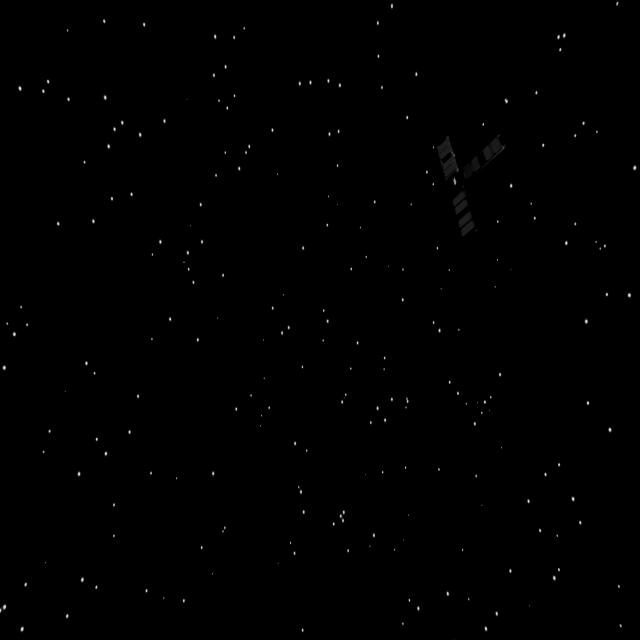satellite: (400, 109, 508, 252)
